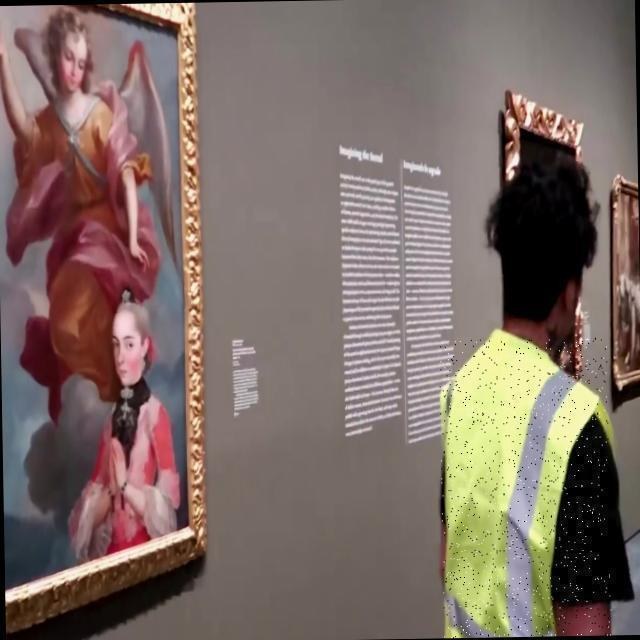no-helmet: (487, 145, 611, 326)
vest: (438, 337, 612, 638)
